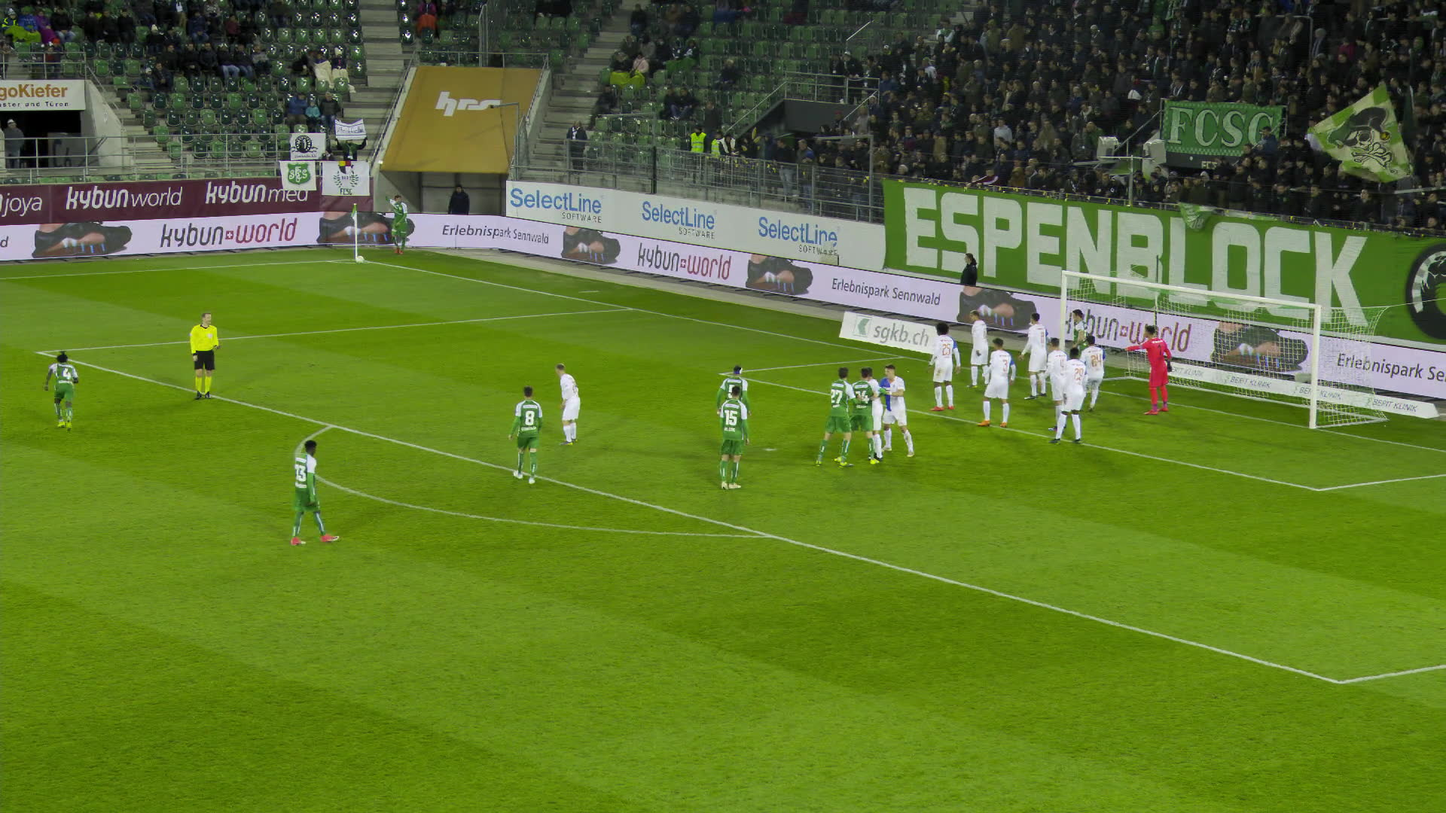ball: (356, 255, 364, 263)
player: (1114, 325, 1173, 415), (292, 439, 340, 545), (815, 366, 864, 467), (833, 368, 882, 464), (1046, 347, 1088, 445), (874, 364, 915, 457), (508, 386, 545, 484), (976, 337, 1016, 426), (715, 365, 752, 459), (719, 386, 750, 490), (44, 349, 81, 431), (927, 321, 960, 410), (1018, 312, 1051, 399), (1039, 337, 1067, 431), (860, 366, 886, 461), (554, 362, 581, 446), (1078, 335, 1106, 413), (965, 310, 990, 389), (1069, 309, 1090, 382), (384, 193, 407, 254)
referee: (188, 313, 222, 400)
